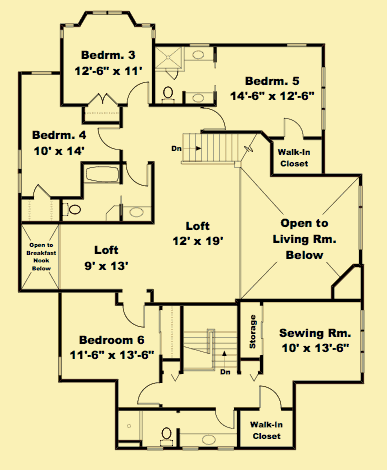door: (124, 159, 152, 189), (198, 107, 228, 135), (119, 302, 148, 330), (132, 380, 160, 407), (123, 81, 150, 107), (281, 114, 306, 141), (97, 127, 121, 153), (256, 384, 281, 408), (84, 92, 117, 109), (215, 408, 238, 430), (31, 183, 50, 201)
large_sink: (60, 199, 84, 220), (159, 82, 179, 107), (155, 425, 175, 448)
small_sink: (179, 433, 238, 446), (121, 202, 152, 223), (185, 89, 217, 106), (185, 43, 213, 62)
stairs: (181, 304, 238, 376), (169, 131, 256, 166)
tub: (81, 164, 121, 187)
window: (357, 309, 367, 375), (319, 63, 327, 130), (357, 184, 364, 250), (18, 147, 24, 192), (87, 10, 123, 15), (57, 354, 63, 379)
